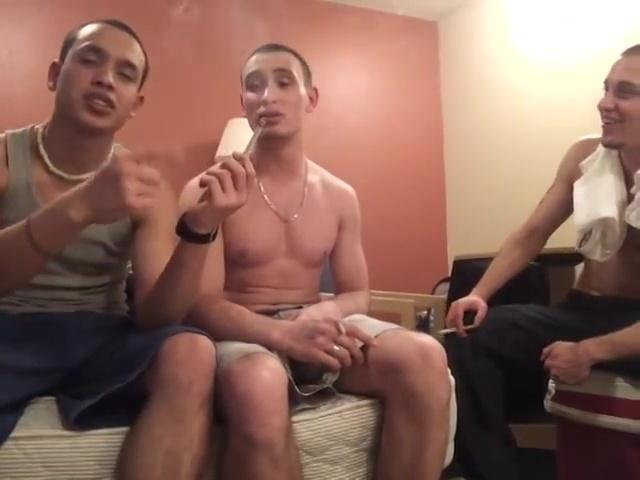cigarette: (241, 118, 267, 157), (435, 323, 478, 336), (333, 318, 352, 337)
